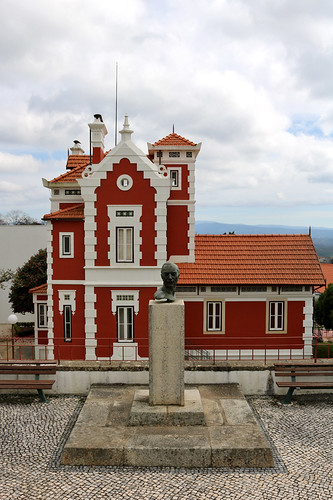medium: (35, 110, 325, 374)
